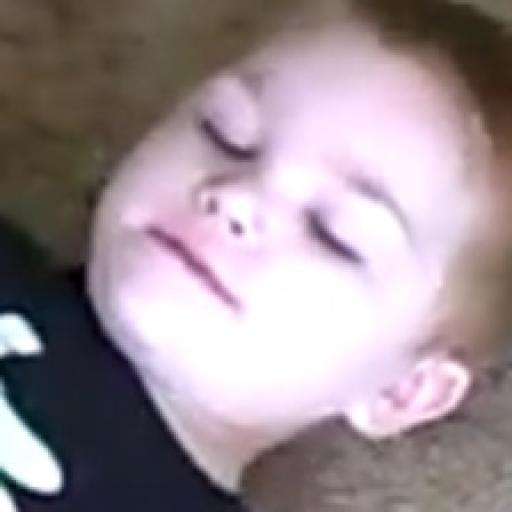Autism: (100, 36, 512, 397)
